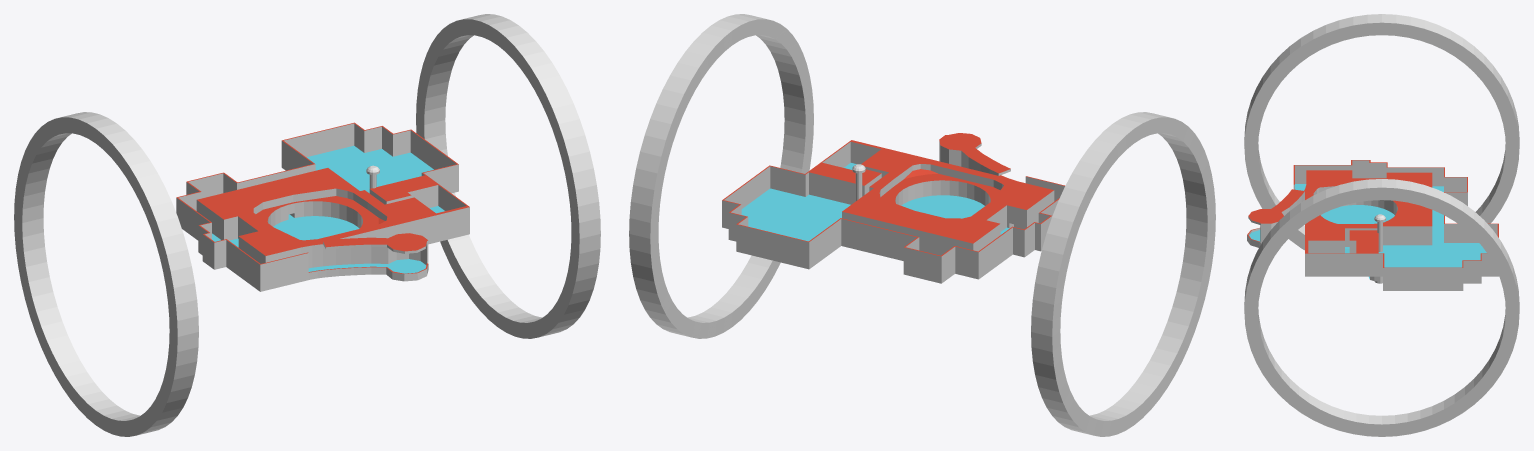
File: Place.fbx
3 renders of one model, left to right at view 1: azimuth 30°, elevation 25°; view 2: azimuth 150°, elevation 25°; view 3: azimuth 270°, elevation 25°, orthographic. The views are drawn at different scales.
Parts seen in each view (by area): view 1: Circles, Plane; view 2: Circles, Plane; view 3: Circles, Plane.
Part boxes in pixels (left/top/right/bottom): Circles: left=14, top=14, right=600, bottom=436; Plane: left=176, top=122, right=469, bottom=291; Circles: left=629, top=14, right=1215, bottom=436; Plane: left=722, top=133, right=1064, bottom=283; Circles: left=1244, top=14, right=1519, bottom=436; Plane: left=1247, top=160, right=1498, bottom=290.
Bounding box in the file's own units: 35827 × 24000 × 24000.
